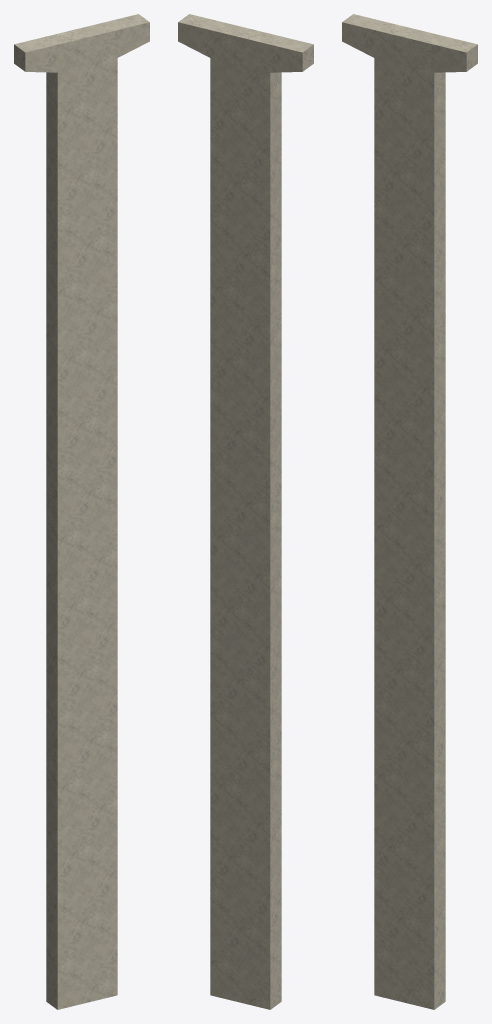
The model's file is BridgePillar5-4L.FBX.
The picture shows the model from 3 angles, left to right: view 1: azimuth 30°, elevation 25°; view 2: azimuth 150°, elevation 25°; view 3: azimuth 330°, elevation 25°; orthographic projection.
Parts seen in each view (by area): view 1: BridgePillar5-4L; view 2: BridgePillar5-4L; view 3: BridgePillar5-4L.
Part boxes in pixels (box(x1,y1,x2,y2)): BridgePillar5-4L: box(14, 14, 149, 1009); BridgePillar5-4L: box(178, 14, 313, 1009); BridgePillar5-4L: box(342, 14, 477, 1009).
Bounding box in the file's own units: 27 × 200 × 4.22.
